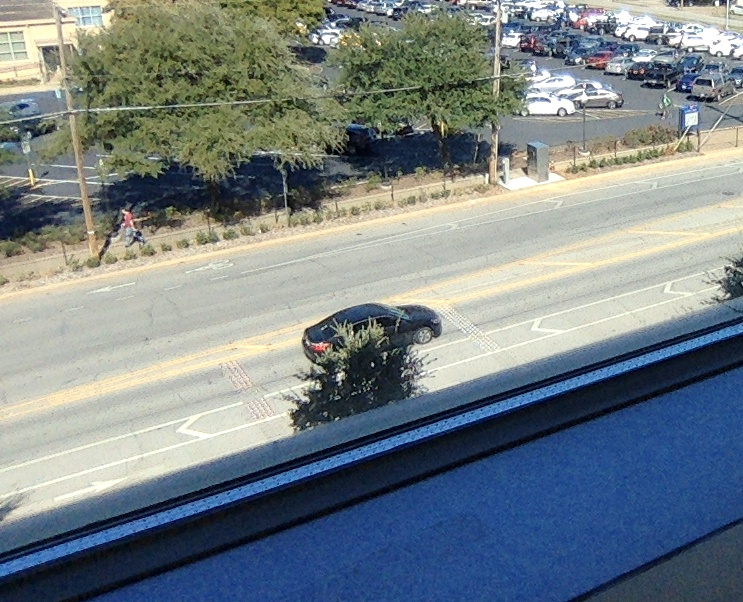car: (300, 300, 443, 366)
